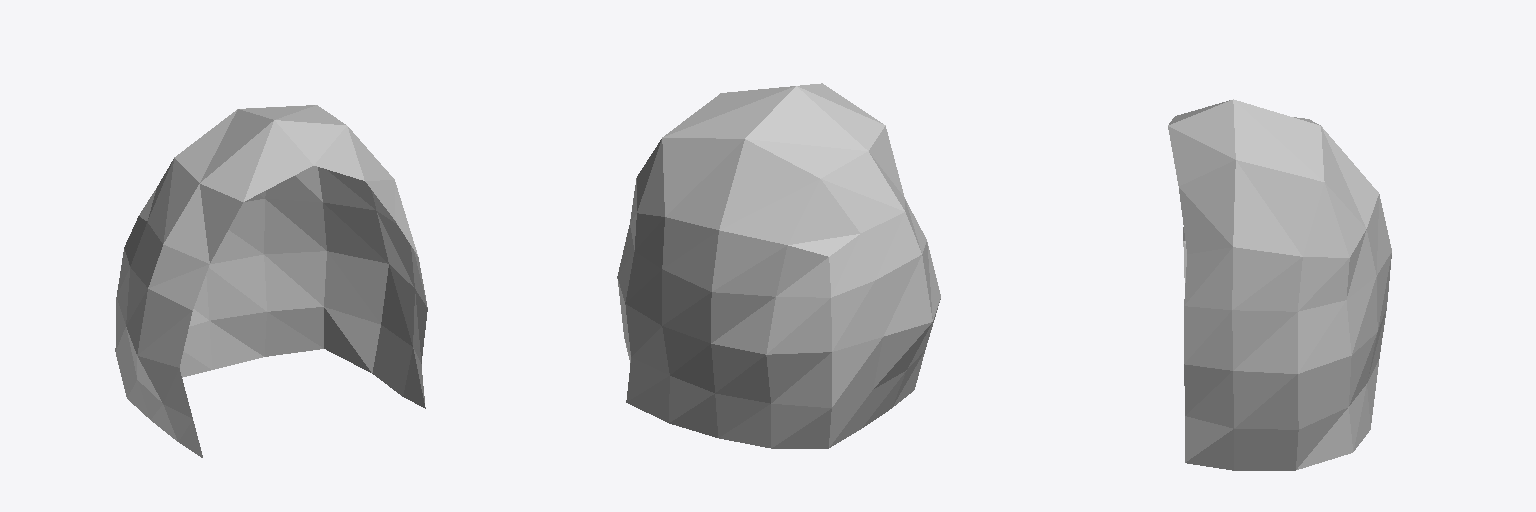
File: cavewallpCube3.OBJ
3 views of the same model, side by side, from view 1: azimuth 30°, elevation 25°; view 2: azimuth 150°, elevation 25°; view 3: azimuth 270°, elevation 25° (orthographic).
Visible parts, largest first — view 1: ZBrush_defualt_group; view 2: ZBrush_defualt_group; view 3: ZBrush_defualt_group.
Boxes of the visible parts, x1=… form: ZBrush_defualt_group: x1=115, y1=105, x2=427, y2=457; ZBrush_defualt_group: x1=617, y1=83, x2=940, y2=448; ZBrush_defualt_group: x1=1168, y1=99, x2=1391, y2=470.
Size of the model in its own units: 127 by 132 by 87.03.